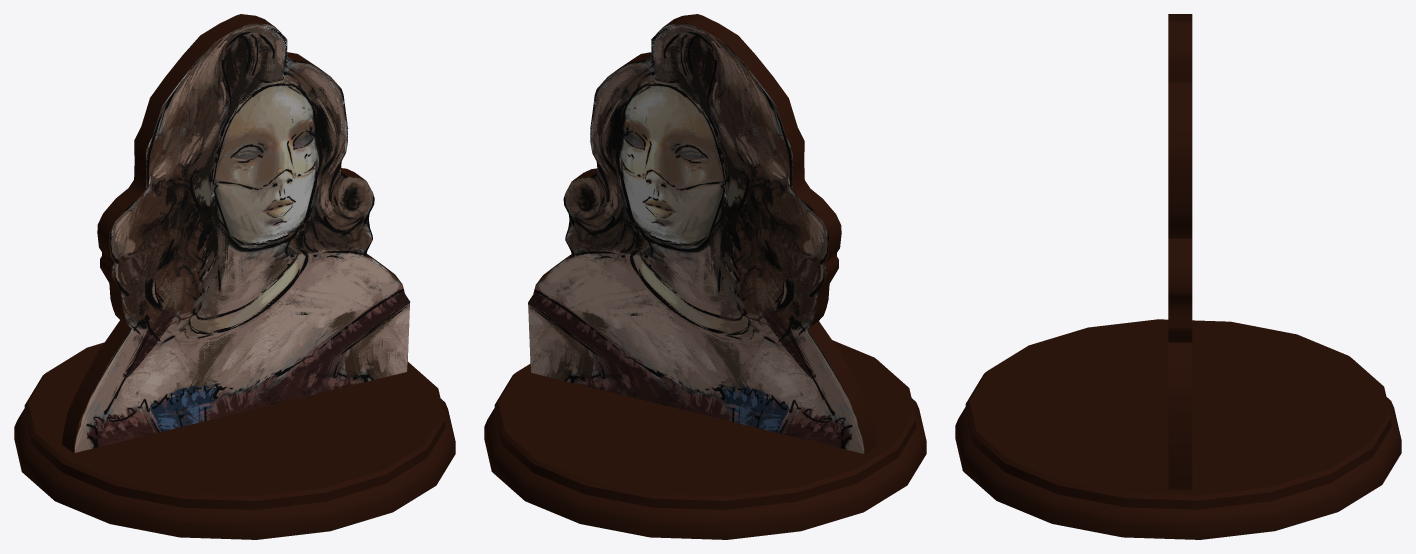
The model's file is Character_Female_v1.FBX.
The picture shows the model from 3 angles, left to right: view 1: azimuth 30°, elevation 25°; view 2: azimuth 150°, elevation 25°; view 3: azimuth 270°, elevation 25°; orthographic projection.
Parts seen in each view (by area): view 1: Cylinder002; view 2: Cylinder002; view 3: Cylinder002.
Part boxes in pixels (x1,y1,x2,y2): Cylinder002: (14,14,455,539); Cylinder002: (484,14,926,539); Cylinder002: (955,14,1401,539).
Size of the model in its own units: 55.92 by 59.51 by 56.01.
